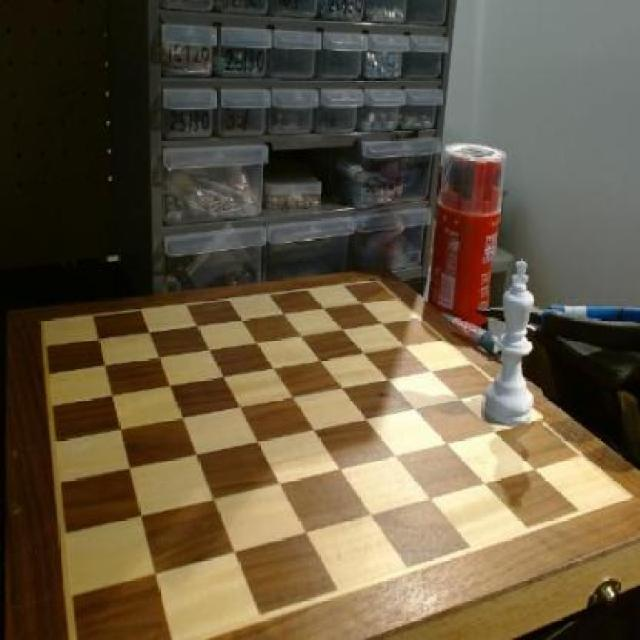white-bishop: (478, 255, 542, 431)
